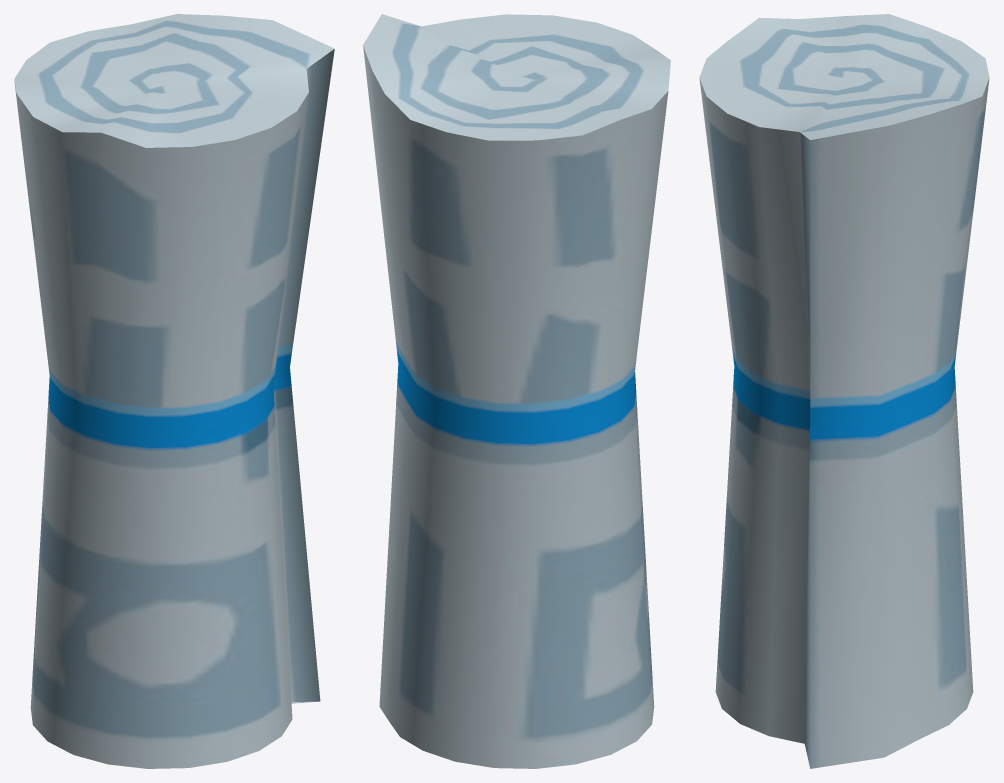
The model's file is paper.fbx.
3 renders of one model, left to right at view 1: azimuth 30°, elevation 25°; view 2: azimuth 150°, elevation 25°; view 3: azimuth 270°, elevation 25°, orthographic. The views are drawn at different scales.
Visible parts, largest first — view 1: pCylinder2; view 2: pCylinder2; view 3: pCylinder2.
Boxes of the visible parts, x1,y1,x2,y2 form: pCylinder2: (14, 14, 334, 768); pCylinder2: (363, 14, 670, 768); pCylinder2: (699, 14, 989, 768).
Bounding box in the file's own units: 2.91 × 6.41 × 2.63.
1 material, 1 textured.
